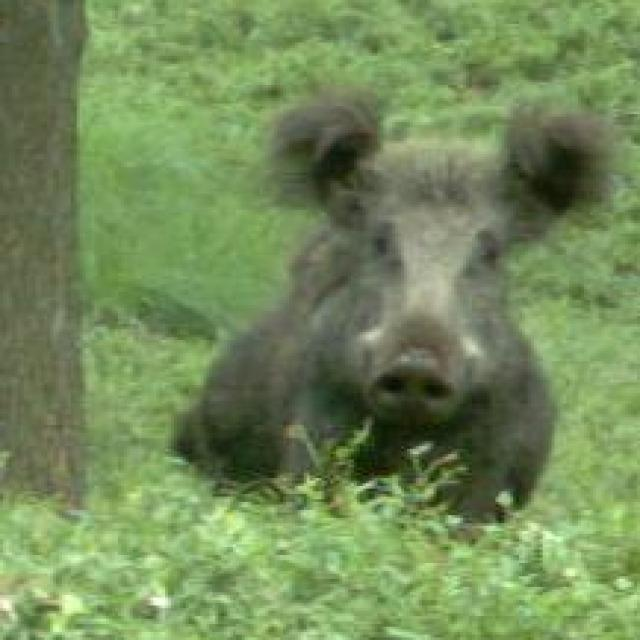pig: (171, 98, 581, 526)
